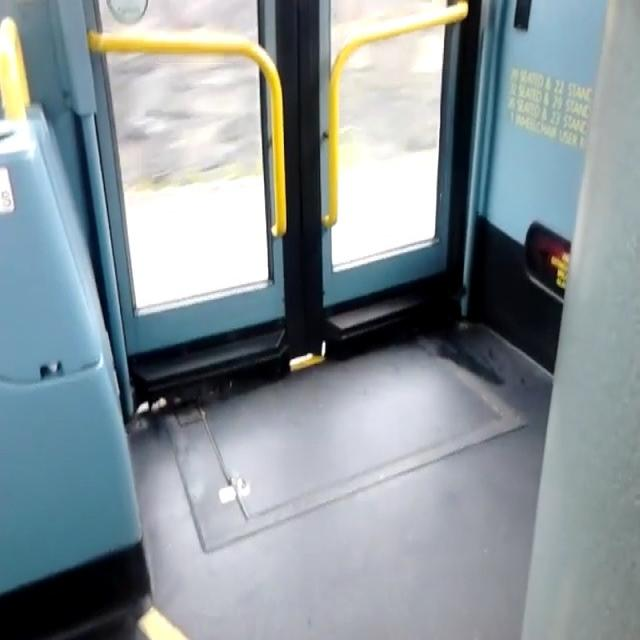bus-door: (70, 0, 493, 413)
